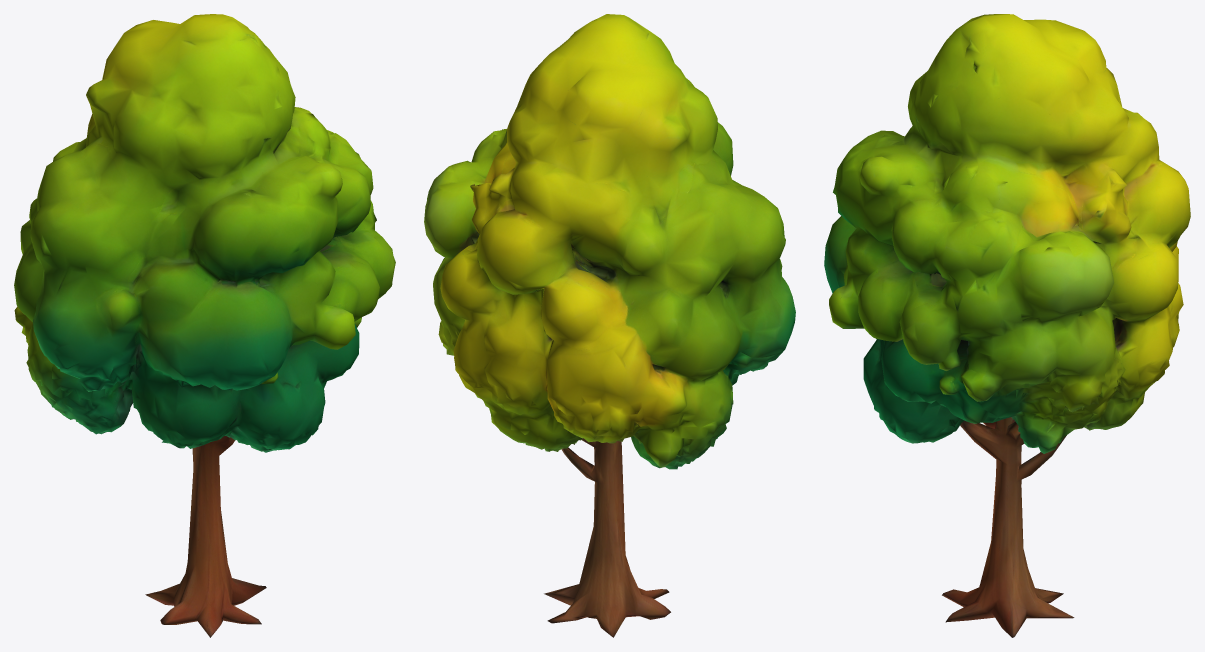
Rendered from Tree_Bigger.glb.
3 renders of one model, left to right at view 1: azimuth 30°, elevation 25°; view 2: azimuth 150°, elevation 25°; view 3: azimuth 270°, elevation 25°, orthographic.
Size of the model in its own units: 1.17 by 2 by 1.12.
1 material, 1 textured.
